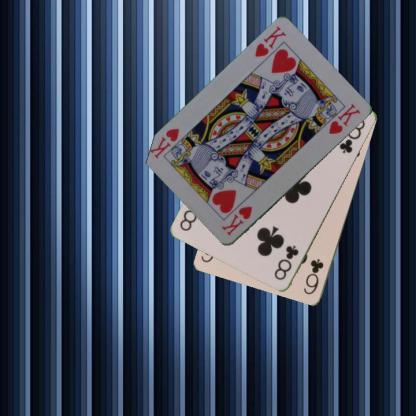6c: (301, 256, 325, 297)
8c: (272, 243, 300, 282)
Kh: (252, 24, 288, 59), (218, 203, 254, 237)
